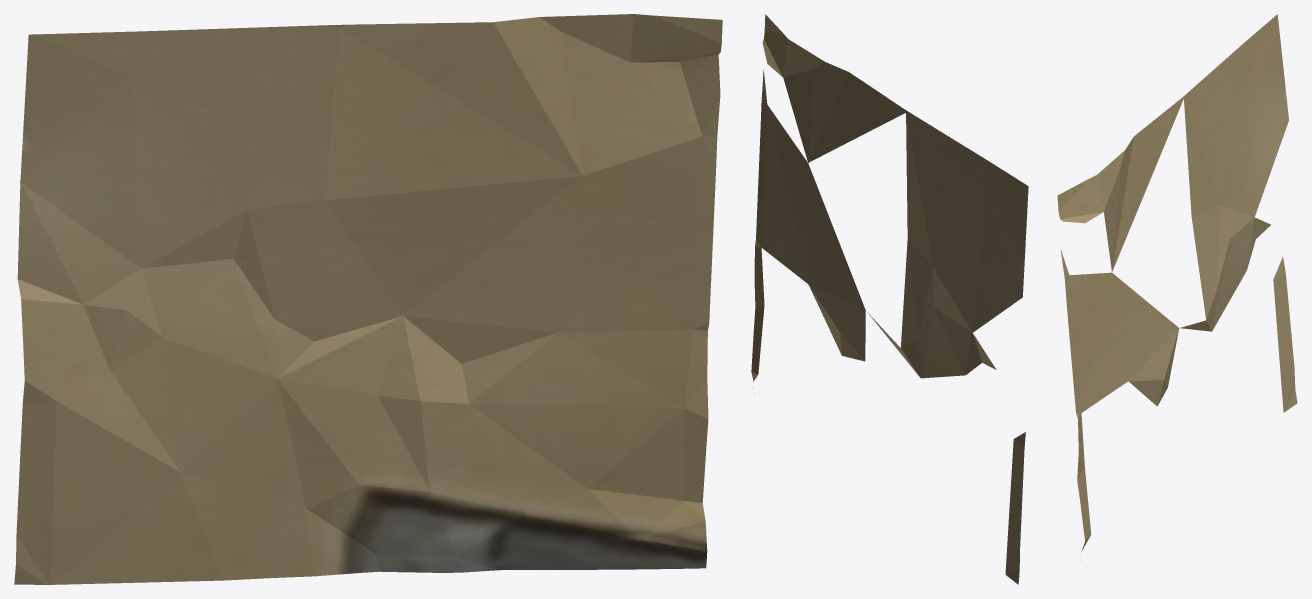
3 views of the same model, side by side, from view 1: azimuth 30°, elevation 25°; view 2: azimuth 150°, elevation 25°; view 3: azimuth 270°, elevation 25° (orthographic). The views are drawn at different scales.
Bounding box in the file's own units: 0.8373 × 0.8374 × 0.468.
3 materials, 3 textured.
